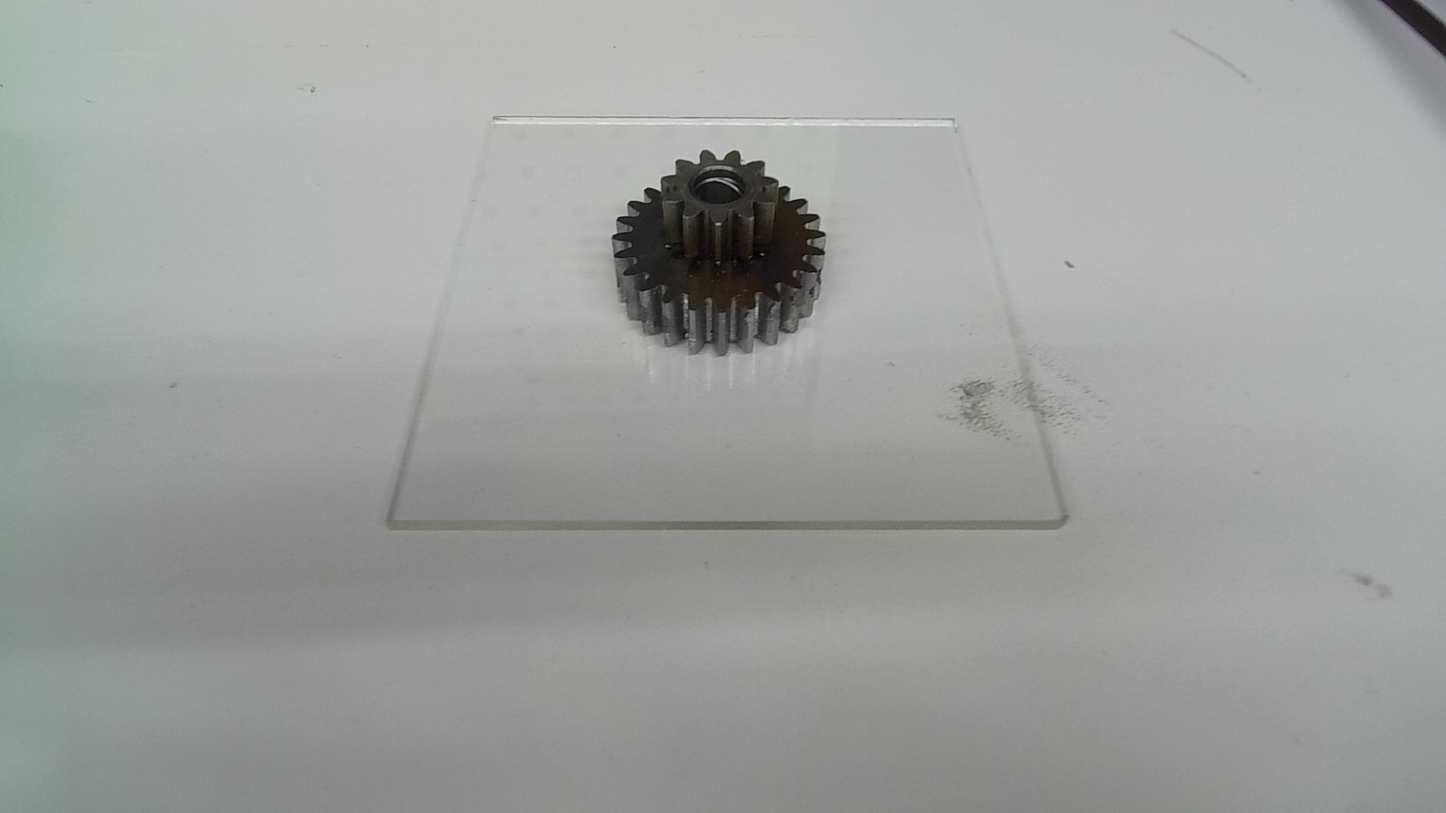gear: (611, 148, 827, 359)
